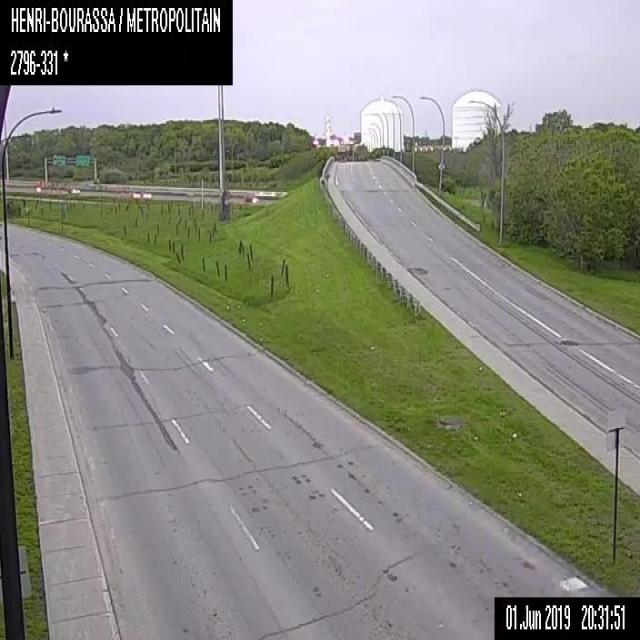vehicle: (39, 179, 80, 193), (244, 191, 258, 202), (130, 189, 140, 199), (142, 190, 151, 198)
